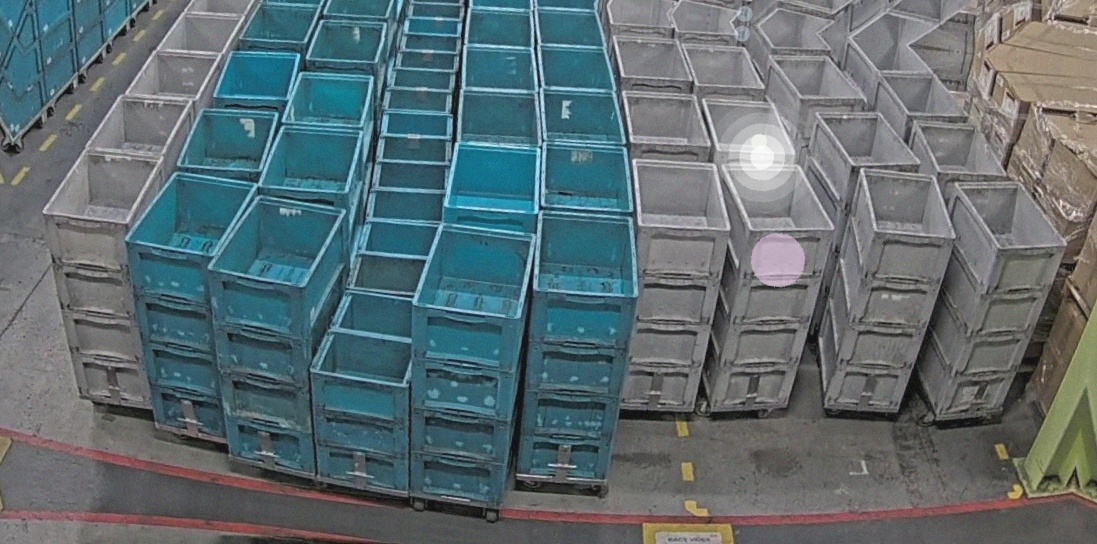4G: (19, 141, 186, 410), (912, 171, 1075, 428), (689, 155, 843, 421), (809, 163, 964, 418), (600, 153, 739, 415)
B4: (182, 188, 359, 475), (101, 165, 262, 439), (387, 220, 537, 506), (504, 204, 648, 486)
B8: (296, 286, 434, 492)
